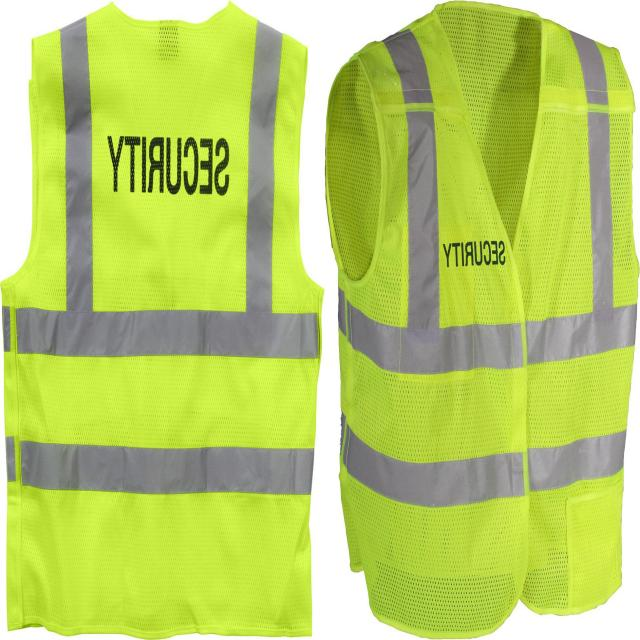Reflective-Jacket: (2, 0, 339, 640), (325, 0, 640, 640)
